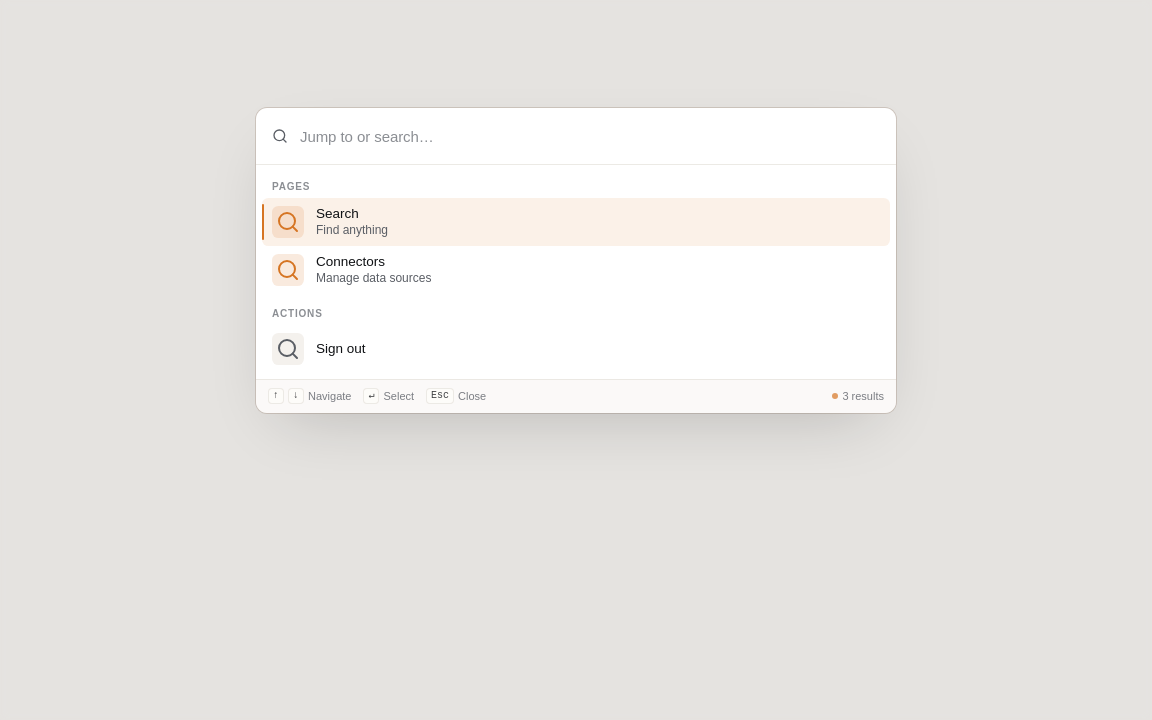
Scenario: CommandPalette › filters items as the user types
The width and height of the screenshot is (1152, 720).
In the field with placeholder "Jump to or search…": (576, 136) [256,108,896,164], type "sign"
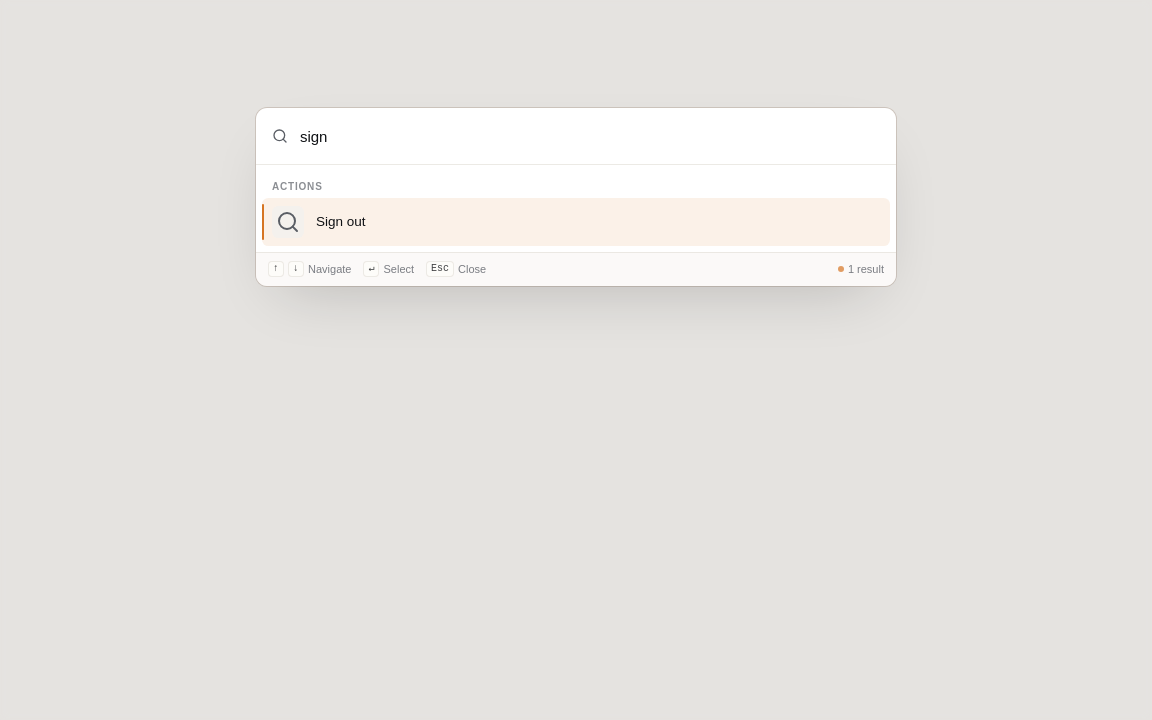
Expected: the text "Sign out" is shown, [316,214,366,229]
Expected: the option "Search" is gone
Expected: the option "Connectors" is gone
